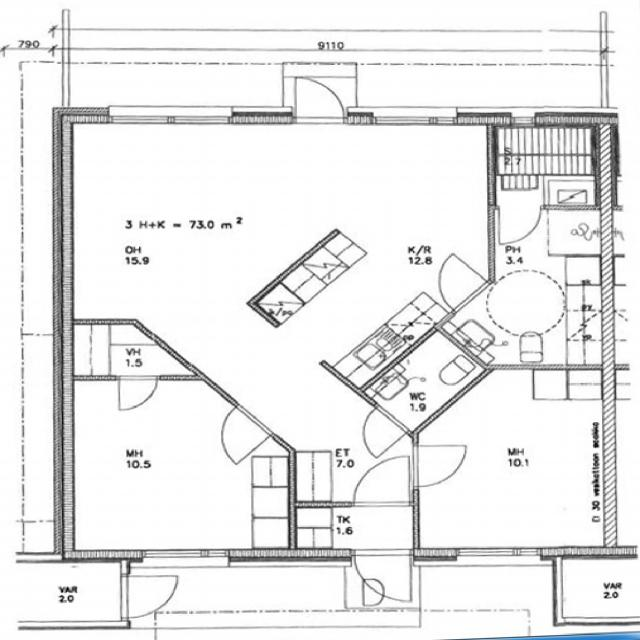door: (202, 404, 272, 463), (418, 253, 488, 312), (344, 404, 411, 459), (357, 547, 410, 609), (354, 457, 408, 507), (296, 68, 343, 123), (120, 576, 177, 616), (412, 446, 467, 486), (498, 202, 540, 244), (119, 374, 157, 411)
